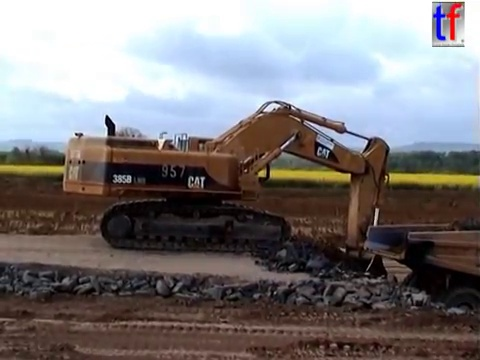excavator: (60, 96, 393, 298)
truck: (360, 220, 480, 343)
